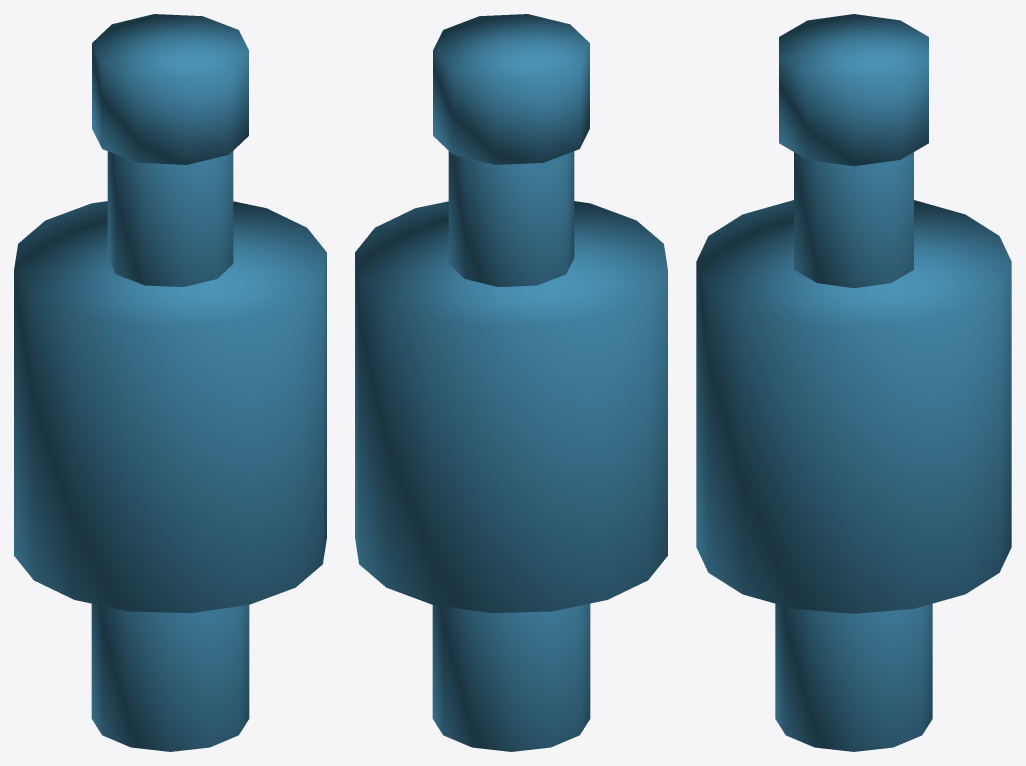
Rendered from potion.obj.
The picture shows the model from 3 angles, left to right: view 1: azimuth 30°, elevation 25°; view 2: azimuth 150°, elevation 25°; view 3: azimuth 270°, elevation 25°; orthographic projection.
Bounding box in the file's own units: 1.6 × 3.76 × 1.6.
